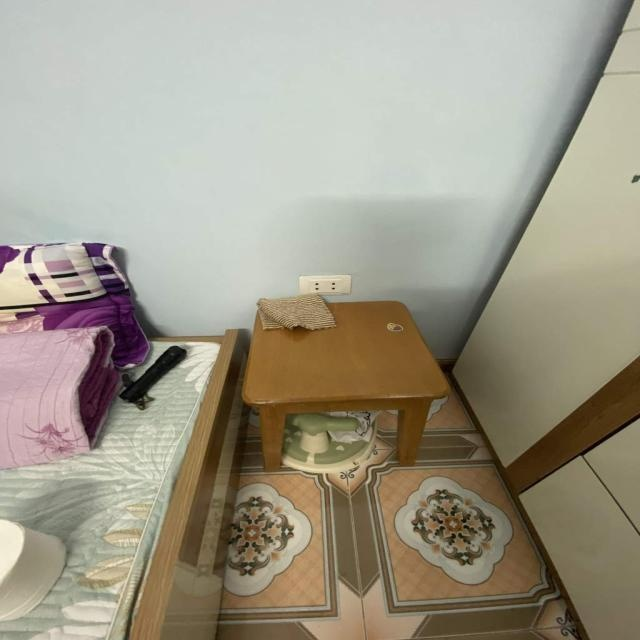outlet: (299, 274, 351, 295)
